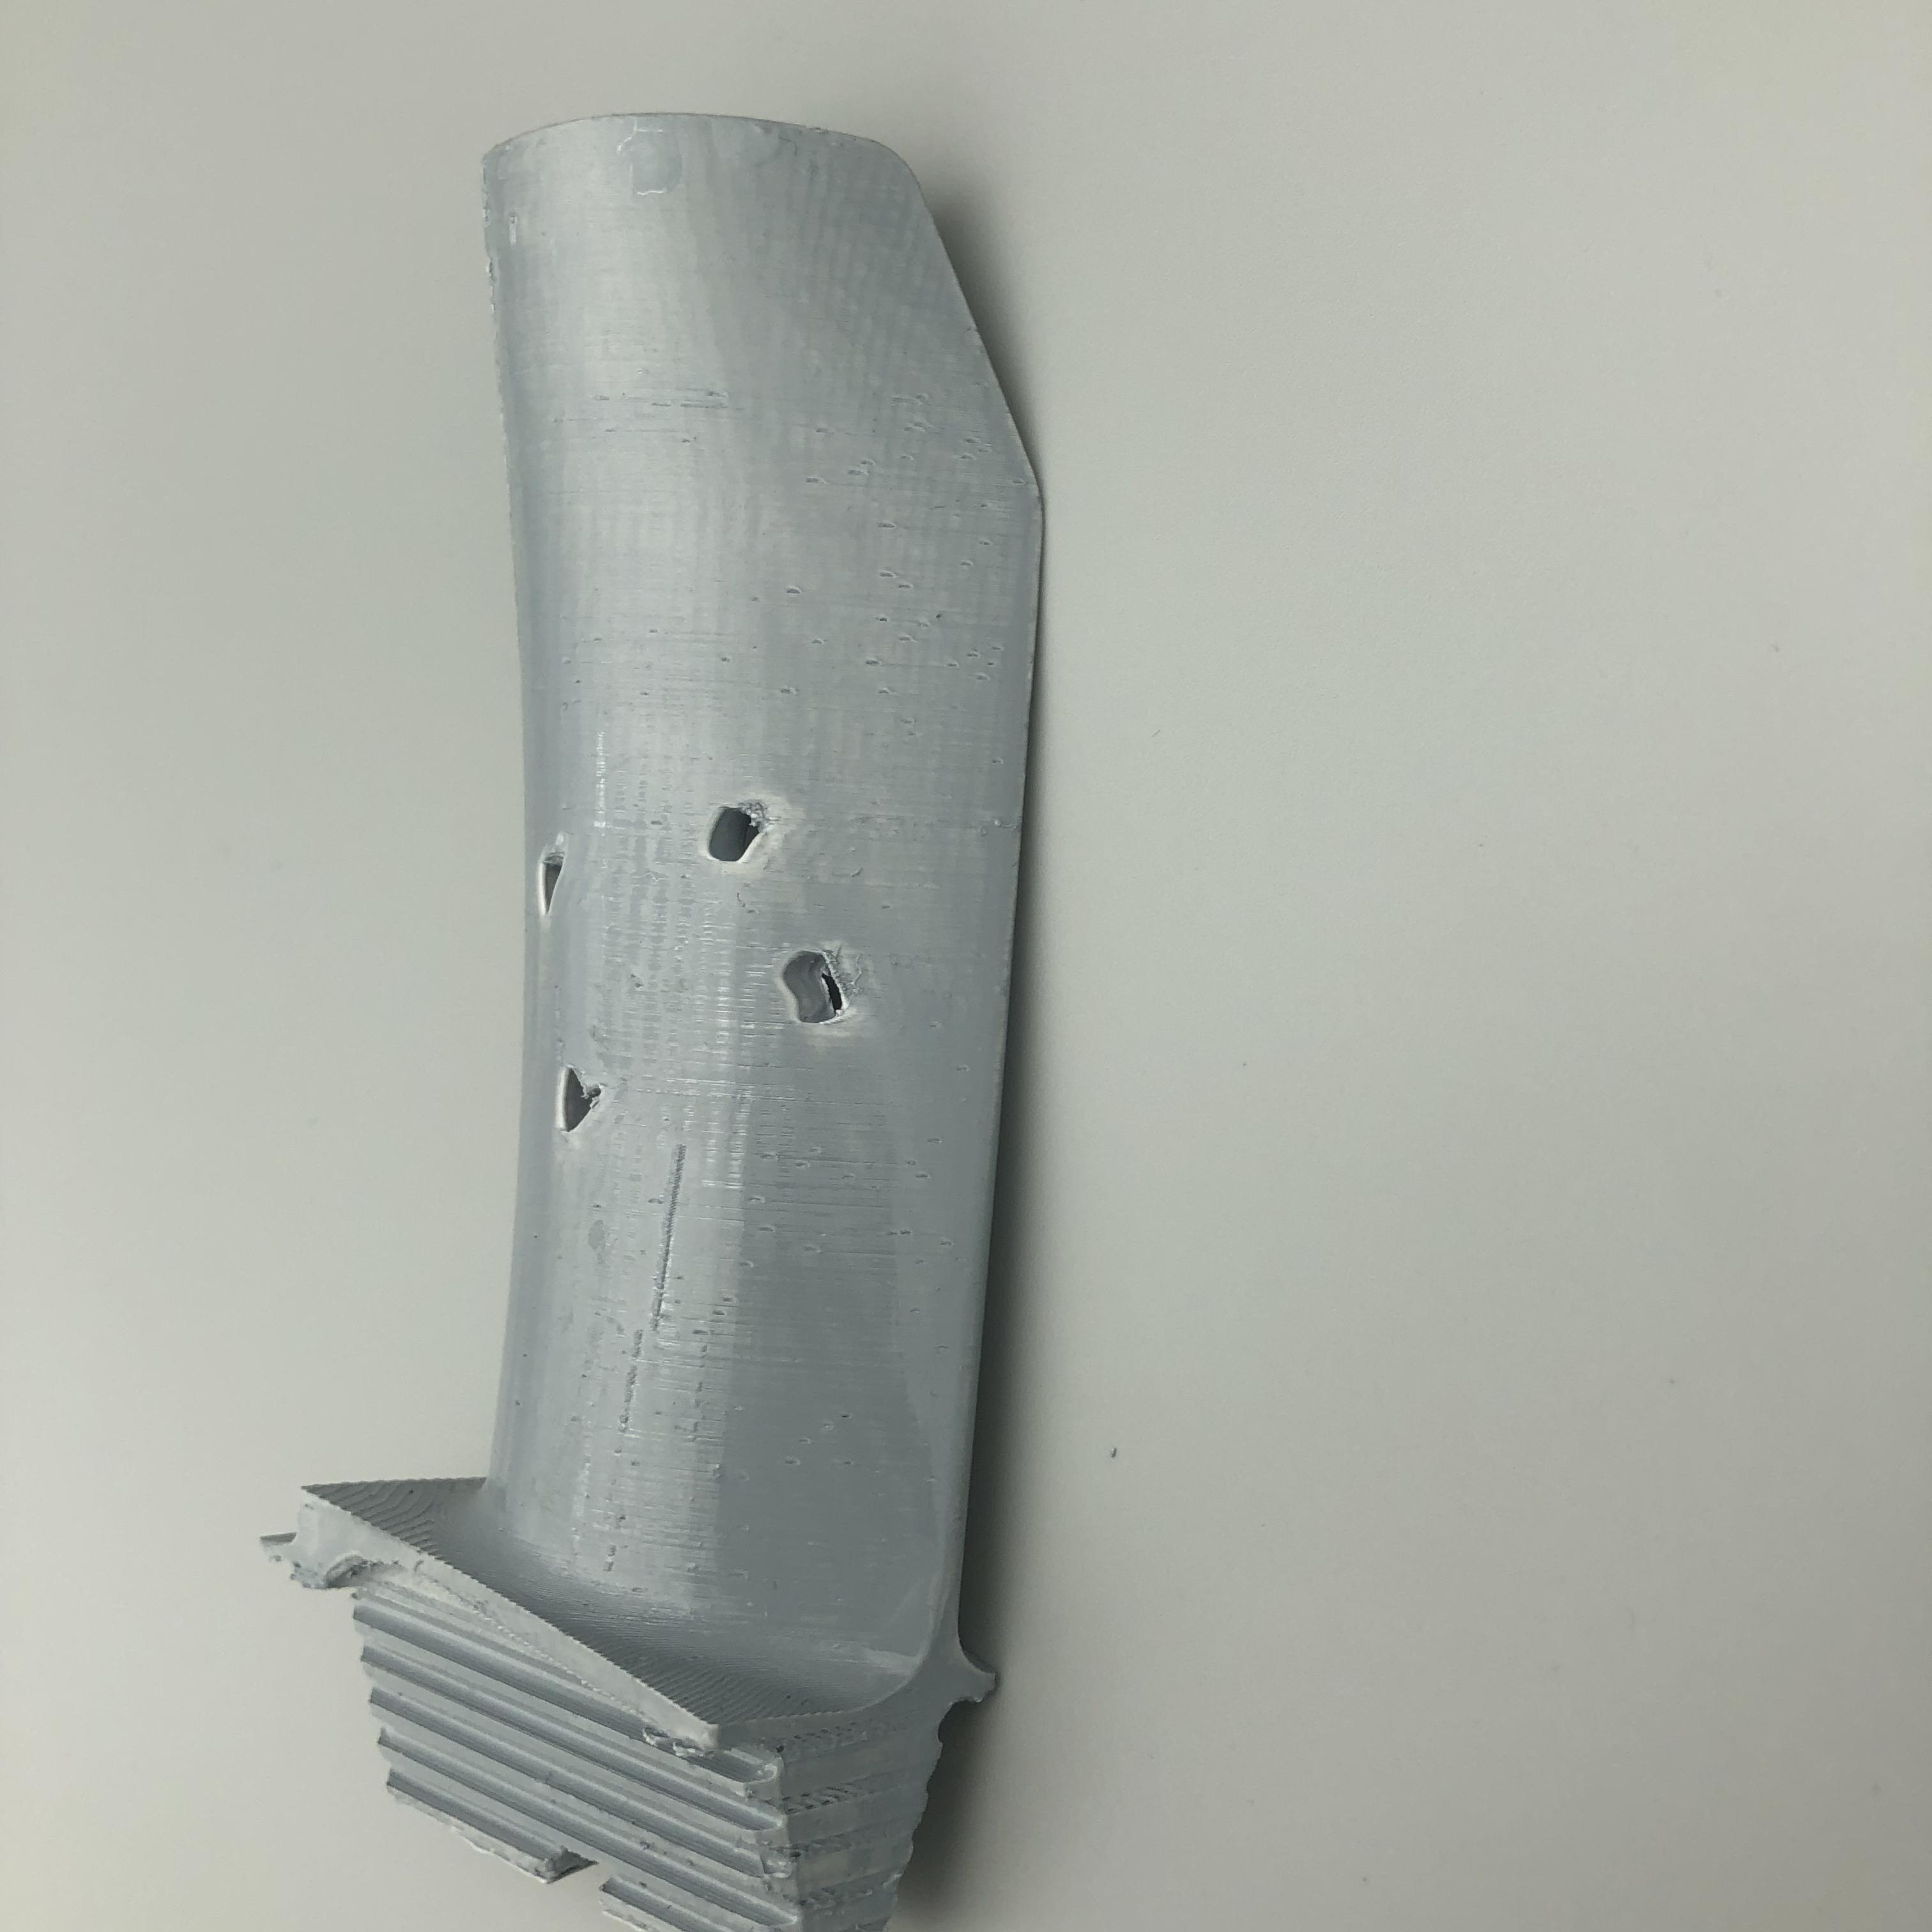breakdown: (531, 801, 872, 1136)
